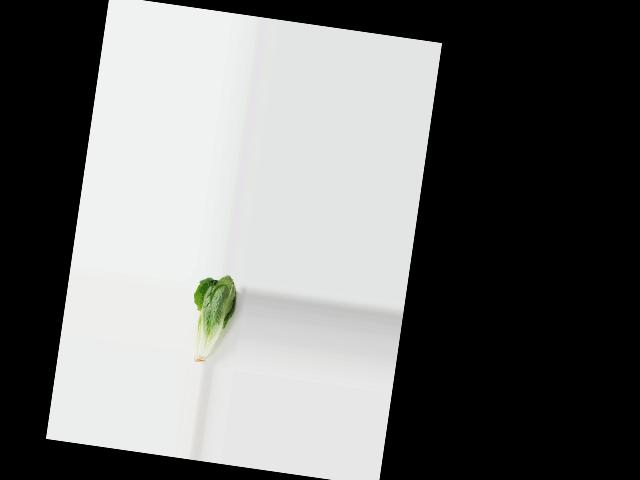lettuce: (183, 270, 242, 370)
